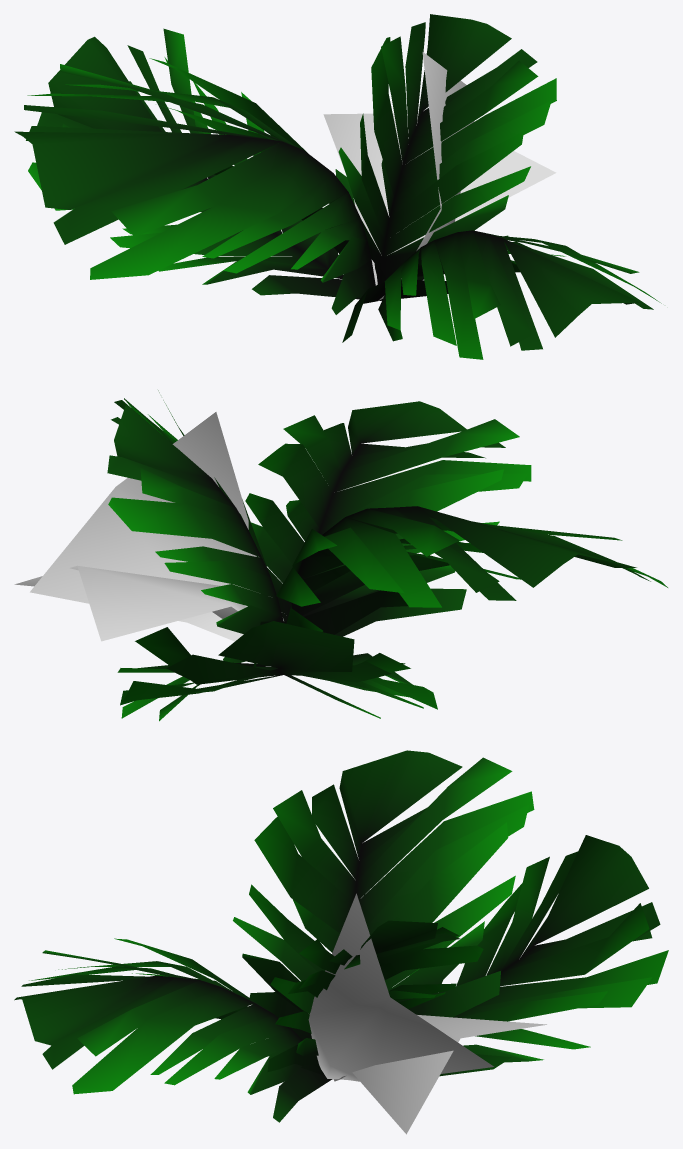
File: PalmCover02_afsTREE_xlprl15_xmw05_xlb05_xafs02.fbx
3 renders of one model, top to bottom at view 1: azimuth 30°, elevation 25°; view 2: azimuth 150°, elevation 25°; view 3: azimuth 270°, elevation 25°, orthographic. The views are drawn at different scales.
Visible parts, largest first — view 1: trunk_PalmCover02_xw04_xt03_xlp05, leaf_PalmCover02_xw03_xt02_xlp02_xp02, leaf_PalmCover02_xw02_xt03_xlp01_xp09, leaf_PalmCover02_xw01_xt01_xlp00_xp05, leaf_PalmCover02_xw01_xt04_xlp01_xp07, leaf_PalmCover02_xw02_xt03_xlp01_xp10; view 2: leaf_PalmCover02_xw02_xt03_xlp01_xp09, trunk_PalmCover02_xw04_xt03_xlp05, leaf_PalmCover02_xw03_xt02_xlp02_xp02, leaf_PalmCover02_xw01_xt01_xlp00_xp05, leaf_PalmCover02_xw02_xt03_xlp01_xp10, leaf_PalmCover02_xw01_xt04_xlp01_xp07; view 3: trunk_PalmCover02_xw04_xt03_xlp05, leaf_PalmCover02_xw02_xt03_xlp01_xp09, leaf_PalmCover02_xw01_xt01_xlp00_xp05, leaf_PalmCover02_xw02_xt03_xlp01_xp10, leaf_PalmCover02_xw03_xt02_xlp02_xp02, leaf_PalmCover02_xw01_xt04_xlp01_xp07.
Boxes of the visible parts, x1,y1,x2,y2 form: trunk_PalmCover02_xw04_xt03_xlp05: (14, 58, 375, 314); leaf_PalmCover02_xw03_xt02_xlp02_xp02: (338, 14, 556, 284); leaf_PalmCover02_xw02_xt03_xlp01_xp09: (342, 230, 661, 359); leaf_PalmCover02_xw01_xt01_xlp00_xp05: (28, 28, 360, 299); leaf_PalmCover02_xw01_xt04_xlp01_xp07: (323, 113, 556, 285); leaf_PalmCover02_xw02_xt03_xlp01_xp10: (378, 52, 474, 300); leaf_PalmCover02_xw02_xt03_xlp01_xp09: (245, 401, 531, 636); trunk_PalmCover02_xw04_xt03_xlp05: (253, 506, 667, 667); leaf_PalmCover02_xw03_xt02_xlp02_xp02: (107, 390, 283, 662); leaf_PalmCover02_xw01_xt01_xlp00_xp05: (117, 621, 437, 721); leaf_PalmCover02_xw02_xt03_xlp01_xp10: (30, 412, 283, 641); leaf_PalmCover02_xw01_xt04_xlp01_xp07: (14, 565, 245, 641); trunk_PalmCover02_xw04_xt03_xlp05: (233, 750, 534, 1039); leaf_PalmCover02_xw02_xt03_xlp01_xp09: (14, 938, 332, 1122); leaf_PalmCover02_xw01_xt01_xlp00_xp05: (389, 835, 668, 1076); leaf_PalmCover02_xw02_xt03_xlp01_xp10: (308, 893, 493, 1081); leaf_PalmCover02_xw03_xt02_xlp02_xp02: (267, 920, 483, 1075); leaf_PalmCover02_xw01_xt04_xlp01_xp07: (333, 1015, 546, 1134).
Size of what is drawn, in the model's own units: 2.06 by 2.29 by 0.8365.
